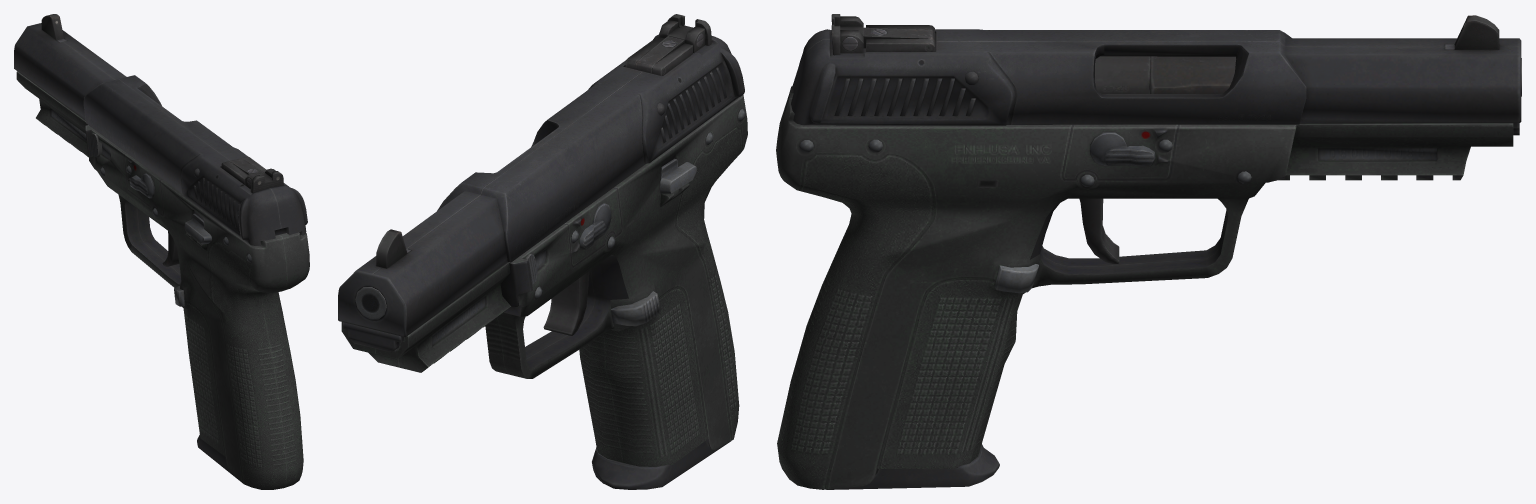
Rendered from Gun.glb.
3 renders of one model, left to right at view 1: azimuth 30°, elevation 25°; view 2: azimuth 150°, elevation 25°; view 3: azimuth 270°, elevation 25°, orthographic. The views are drawn at different scales.
Visible parts, largest first — view 1: Gun; view 2: Gun; view 3: Gun.
Boxes of the visible parts, x1,y1,x2,y2 form: Gun: (14, 14, 309, 489); Gun: (338, 14, 747, 489); Gun: (776, 14, 1521, 489).
Bounding box in the file's own units: 0.1104 × 0.4718 × 0.7024.
Materials: 2 (1 with a texture image).
